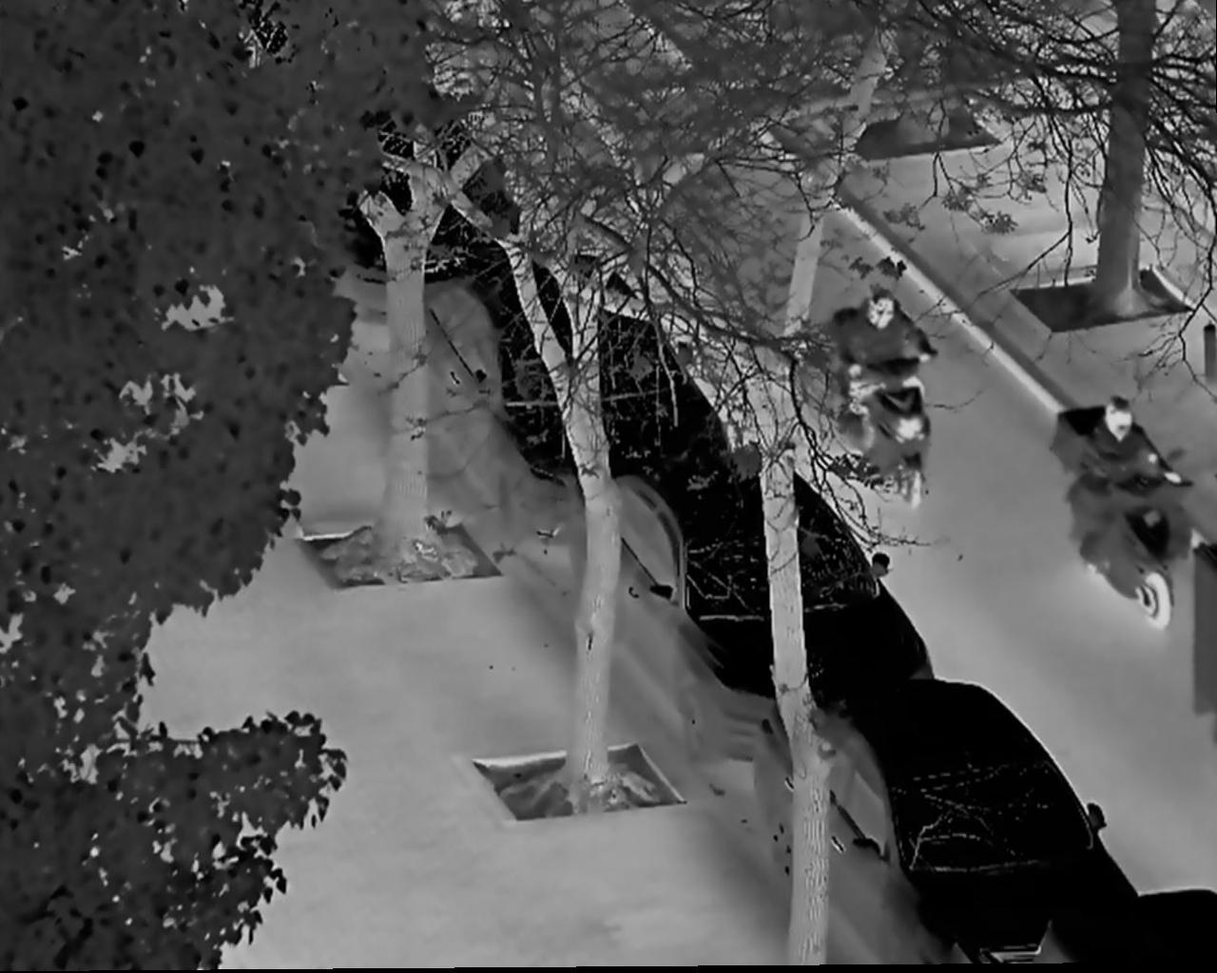person: (1082, 392, 1179, 564), (844, 282, 937, 447)
